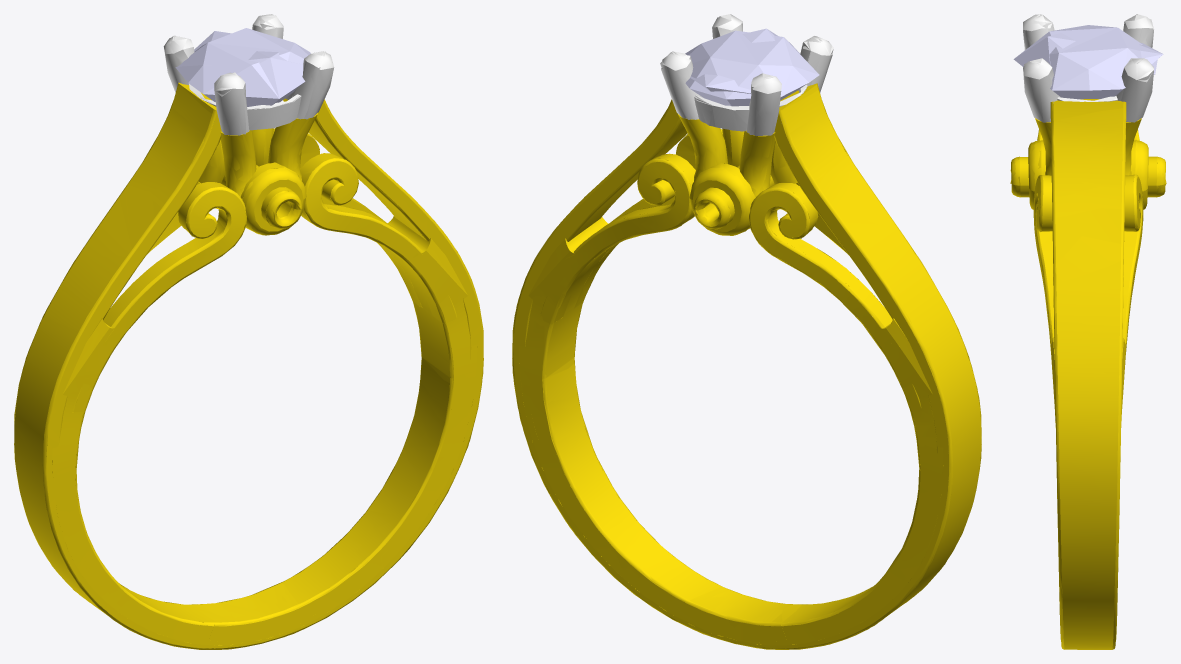
The model's file is DLR-D000668593.glb.
3 views of the same model, side by side, from view 1: azimuth 30°, elevation 25°; view 2: azimuth 150°, elevation 25°; view 3: azimuth 270°, elevation 25° (orthographic).
Parts seen in each view (by area): view 1: highPolyMesh, lowPolyMesh; view 2: highPolyMesh, lowPolyMesh; view 3: highPolyMesh, lowPolyMesh.
Boxes of the visible parts, x1,y1,x2,y2 form: highPolyMesh: [14, 14, 483, 649]; lowPolyMesh: [14, 15, 483, 649]; highPolyMesh: [512, 14, 981, 649]; lowPolyMesh: [512, 14, 981, 649]; highPolyMesh: [1011, 14, 1165, 649]; lowPolyMesh: [1010, 14, 1166, 649].
Size of the model in its own units: 0.0192 by 0.0247 by 0.00592.
